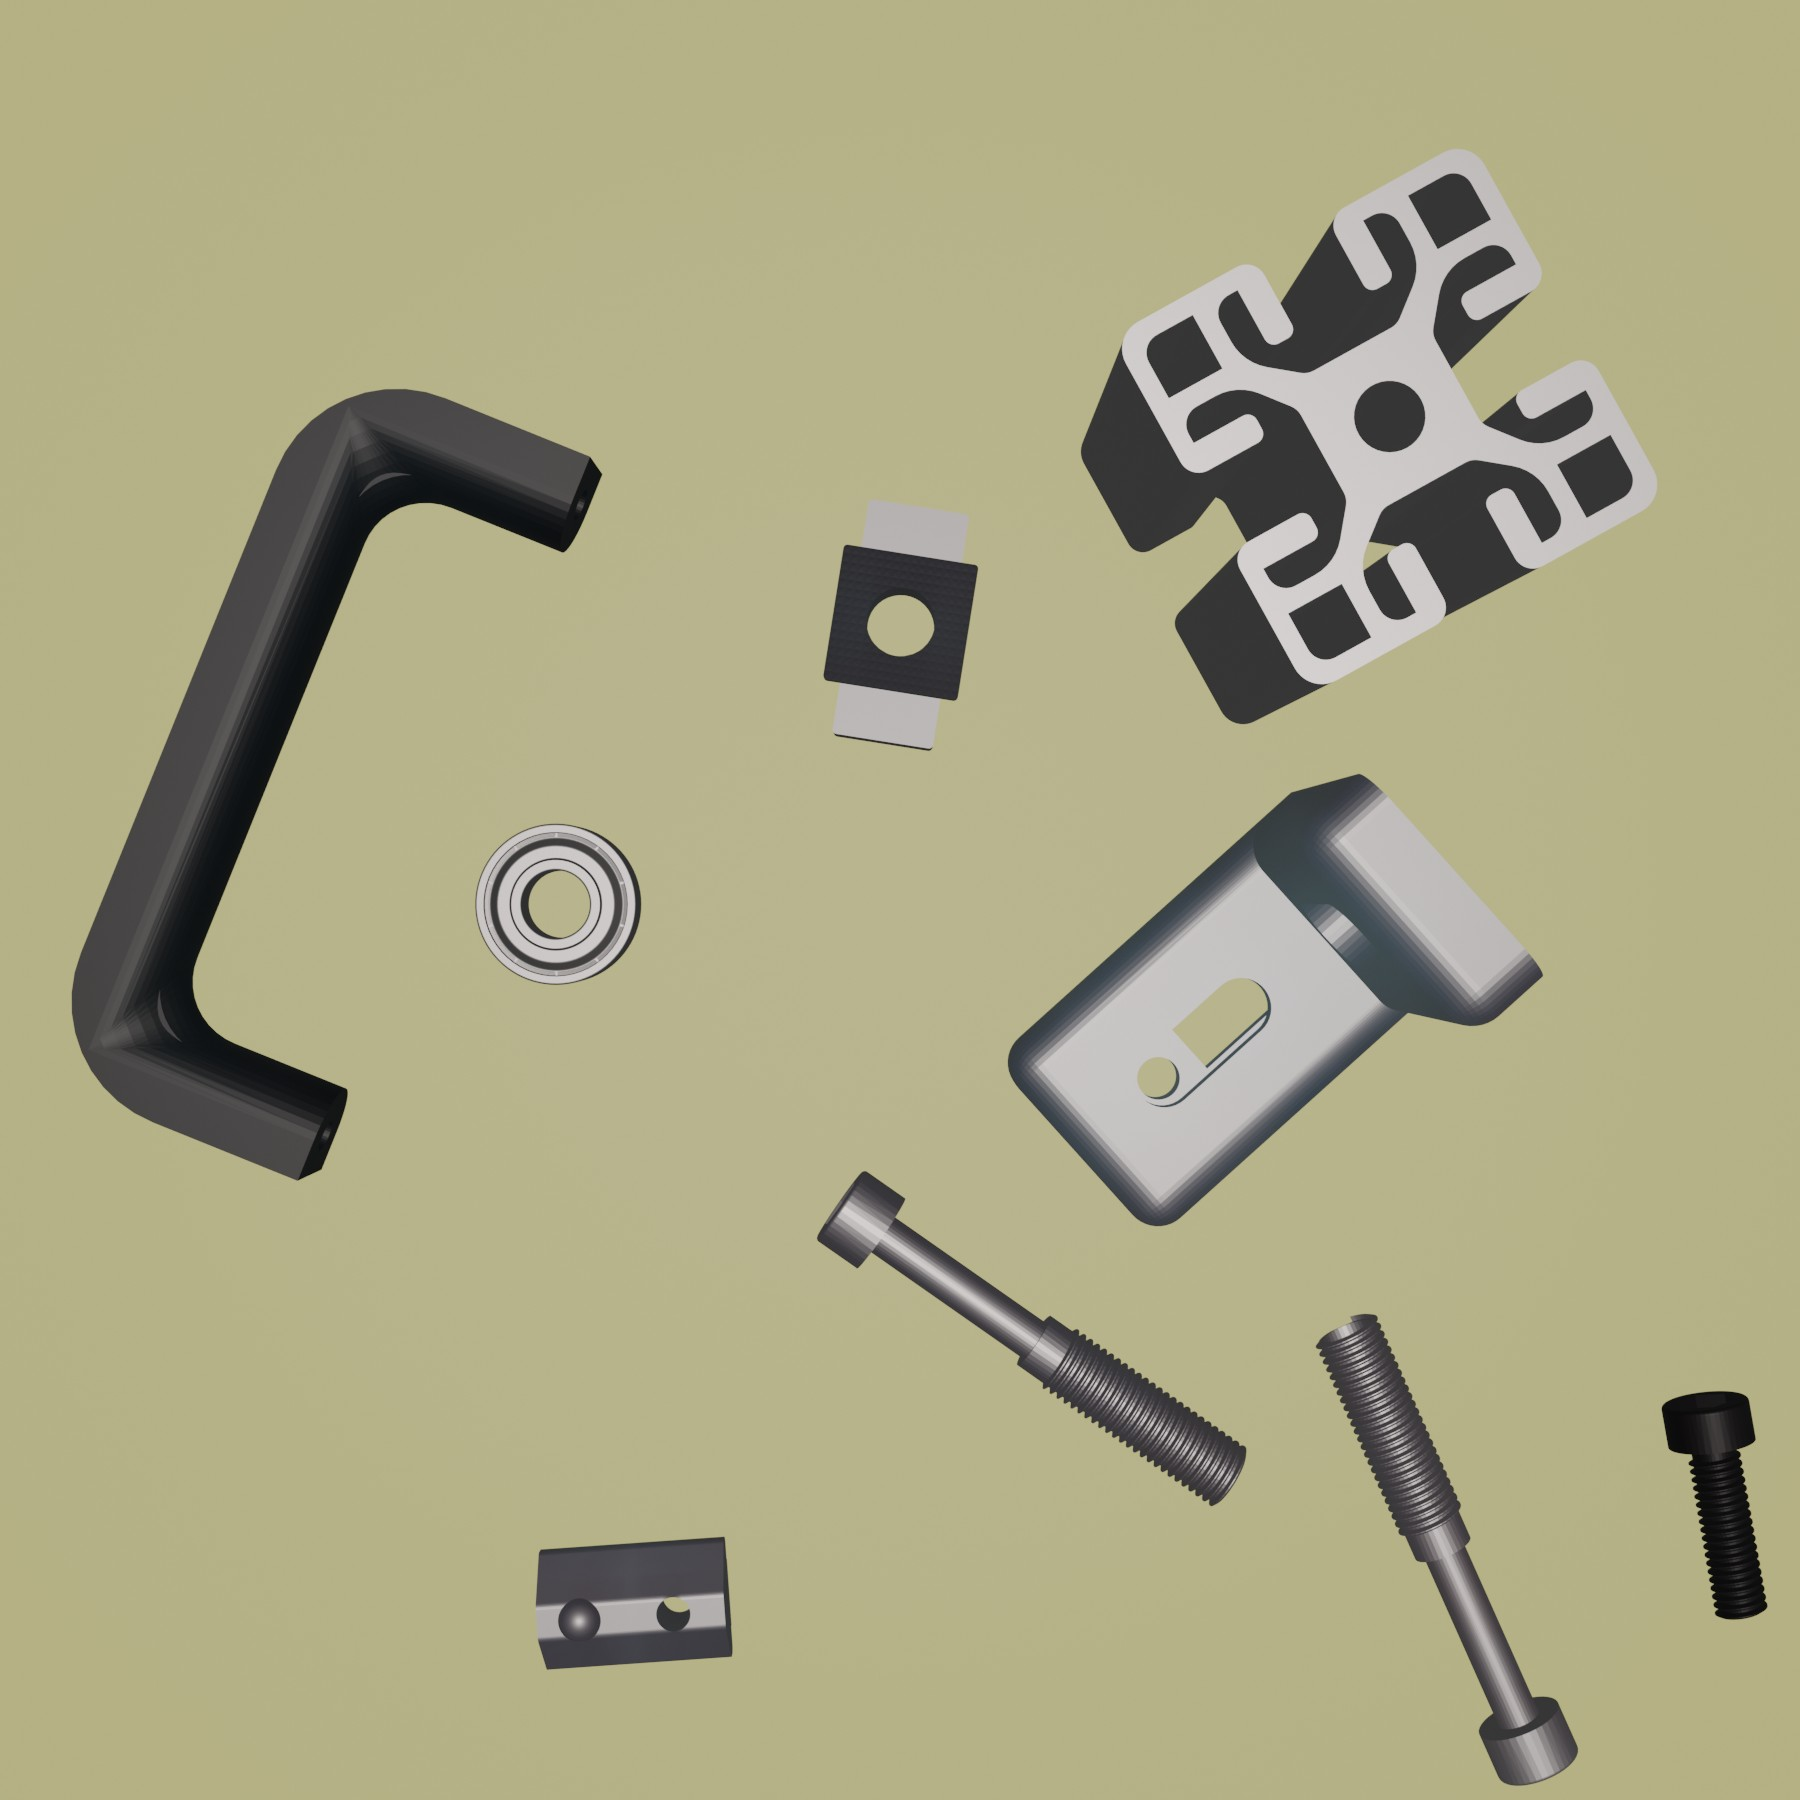Aluminium Extension: (1081, 145, 1663, 725)
Ball Bearing: (475, 819, 643, 989)
Multiwinkel: (1009, 771, 1548, 1228)
Pull Handle: (69, 382, 605, 1184)
Shoulder Socket Head Cap Screw: (816, 1169, 1248, 1512), (1312, 1310, 1582, 1788)
Socket Head Cap Screw: (1658, 1386, 1774, 1622)
T Nut Square: (816, 486, 982, 755)
T Spring Nut: (532, 1531, 737, 1675)
